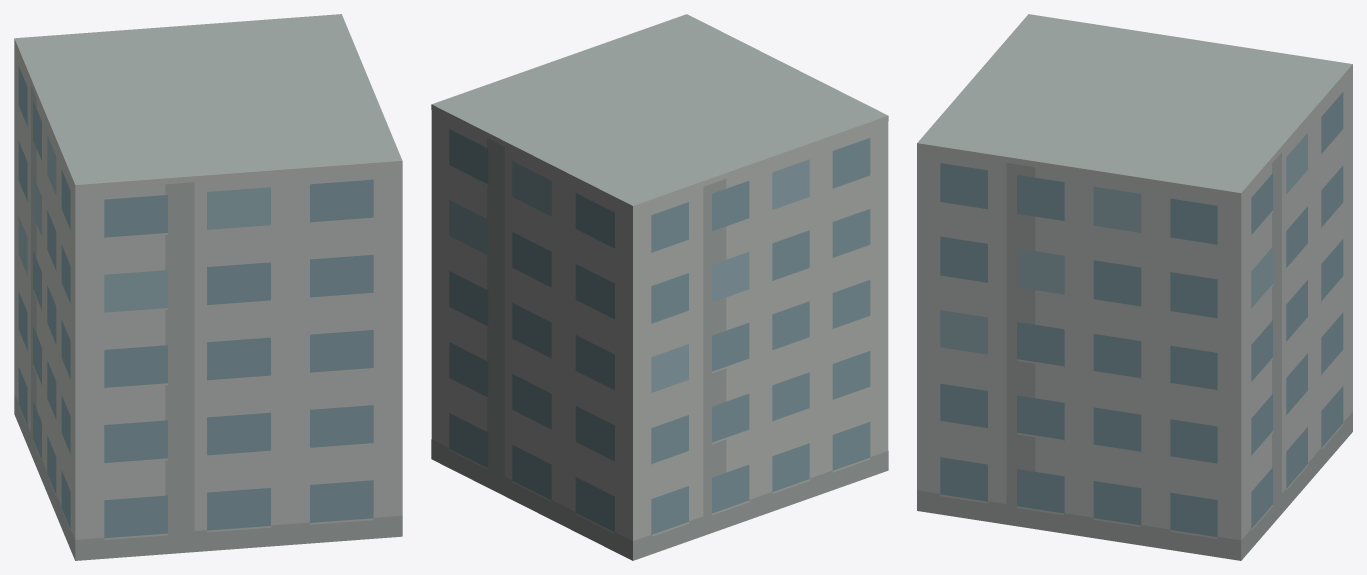
File: residential-7f21a6d2-0e48-4044-966e-7b176981fc82.glb
The picture shows the model from 3 angles, left to right: view 1: azimuth 30°, elevation 25°; view 2: azimuth 150°, elevation 25°; view 3: azimuth 270°, elevation 25°; orthographic projection. The views are drawn at different scales.
Visible parts, largest first — view 1: residential-7f21a6d2-0e48-4044-966e-7b176981fc82.tmp; view 2: residential-7f21a6d2-0e48-4044-966e-7b176981fc82.tmp; view 3: residential-7f21a6d2-0e48-4044-966e-7b176981fc82.tmp.
Part boxes in pixels (x1,y1,x2,y2): residential-7f21a6d2-0e48-4044-966e-7b176981fc82.tmp: (14, 14, 402, 560); residential-7f21a6d2-0e48-4044-966e-7b176981fc82.tmp: (431, 14, 888, 560); residential-7f21a6d2-0e48-4044-966e-7b176981fc82.tmp: (917, 14, 1352, 560).
Size of the model in its own units: 15.94 by 15.25 by 16.39.
